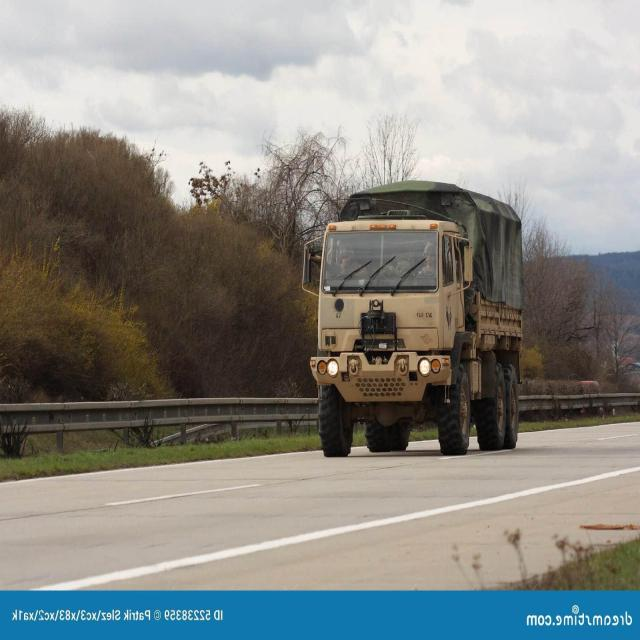truck: (310, 180, 525, 457)
